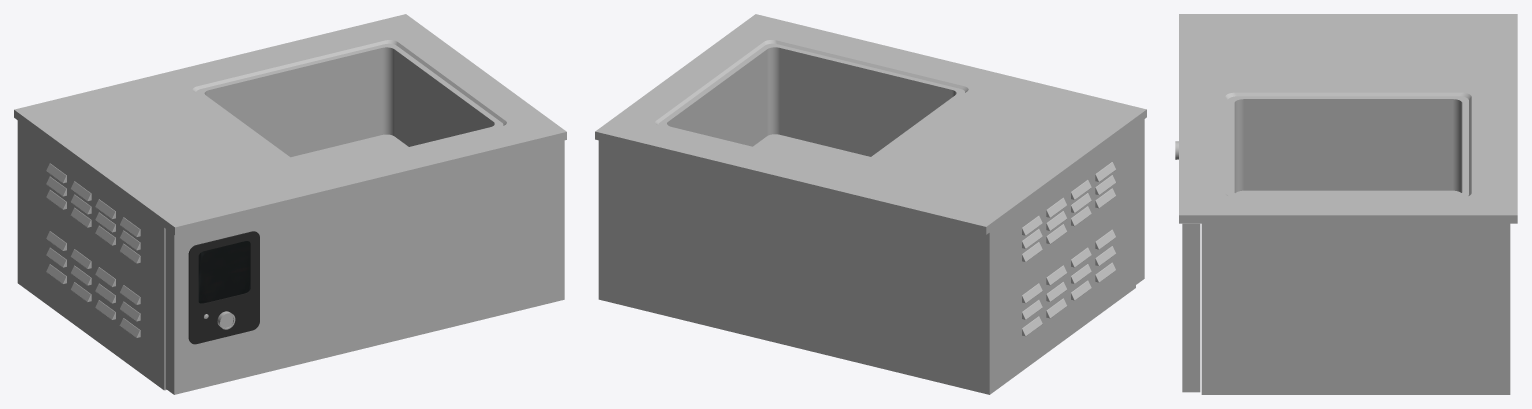
The model's file is Water_Bath.fbx.
The picture shows the model from 3 angles, left to right: view 1: azimuth 30°, elevation 25°; view 2: azimuth 150°, elevation 25°; view 3: azimuth 270°, elevation 25°; orthographic projection. The views are drawn at different scales.
Visible parts, largest first — view 1: pCube3, pCube2, pCube1, Display; view 2: pCube1, pCube3, pCube2; view 3: pCube3, pCube1, pCube2.
Boxes of the visible parts, x1=… form: pCube3: x1=14, y1=14, x2=566, y2=235; pCube2: x1=165, y1=140, x2=564, y2=394; pCube1: x1=17, y1=120, x2=166, y2=390; Display: x1=188, y1=231, x2=259, y2=344; pCube1: x1=598, y1=124, x2=1135, y2=394; pCube3: x1=595, y1=14, x2=1146, y2=234; pCube2: x1=1136, y1=119, x2=1144, y2=284; pCube3: x1=1179, y1=14, x2=1517, y2=223; pCube1: x1=1201, y1=222, x2=1510, y2=394; pCube2: x1=1182, y1=223, x2=1200, y2=392.
Size of the model in its own units: 9.97 by 4.11 by 7.1.
